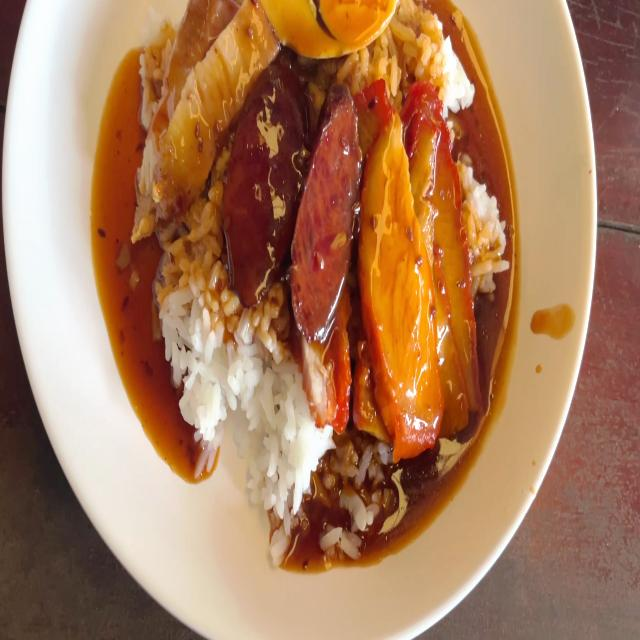boiled_egg: (251, 0, 397, 57)
chainese_sausage: (226, 88, 364, 302), (293, 93, 364, 323), (232, 79, 302, 295)
crispy_pork: (137, 0, 266, 224)
red_pork: (366, 103, 476, 424), (420, 93, 478, 436), (367, 107, 422, 435)
red_pork_and_crispy_pork: (144, 0, 502, 527)
rice: (167, 233, 239, 419), (243, 317, 302, 516)
